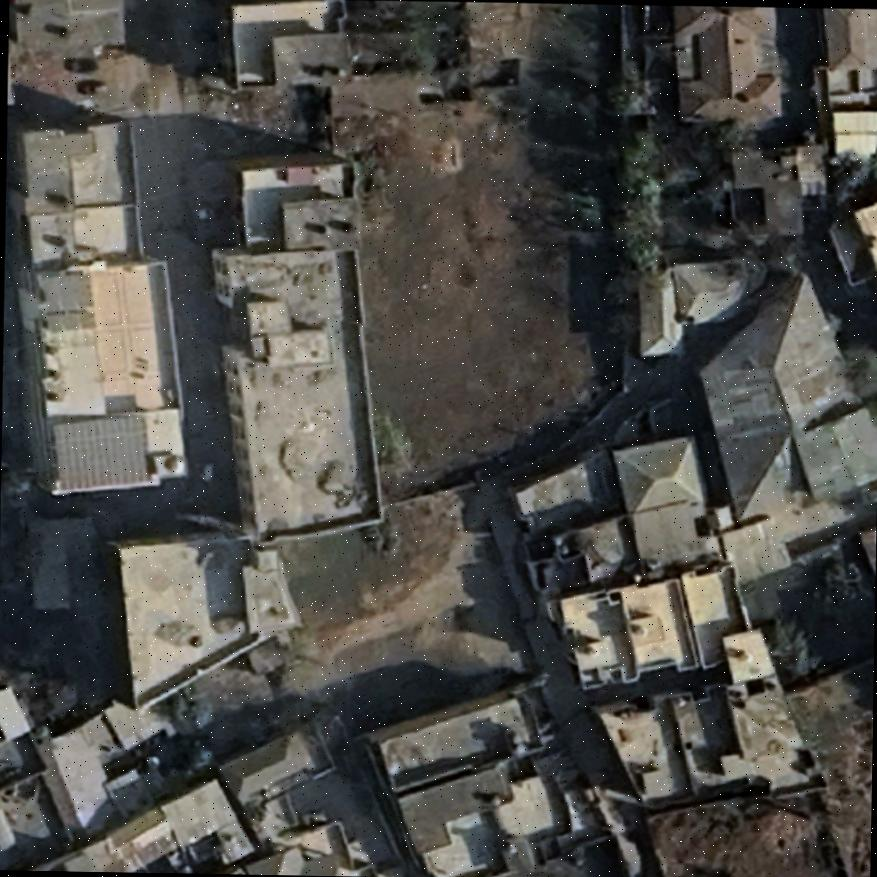Solarpanel: (46, 410, 150, 492)
